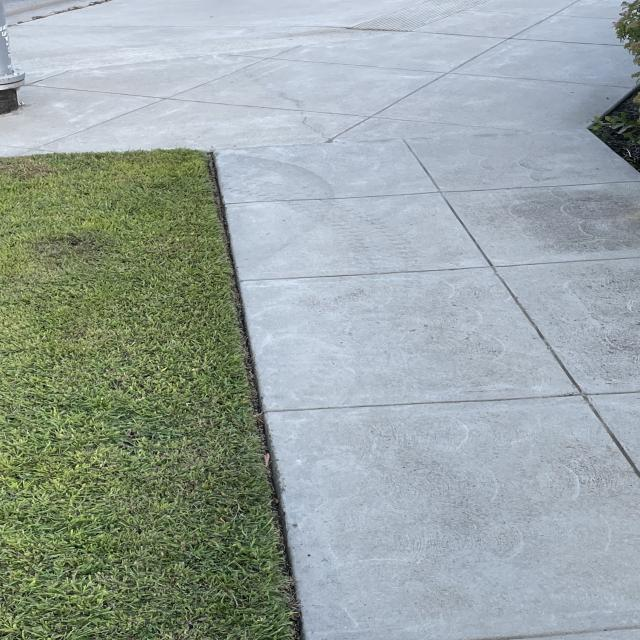walkway: (284, 400, 636, 598), (252, 267, 640, 395), (224, 156, 621, 281), (273, 102, 592, 200), (356, 12, 609, 122)
walkway-edge: (242, 154, 323, 640), (201, 116, 254, 338), (0, 129, 228, 174)
